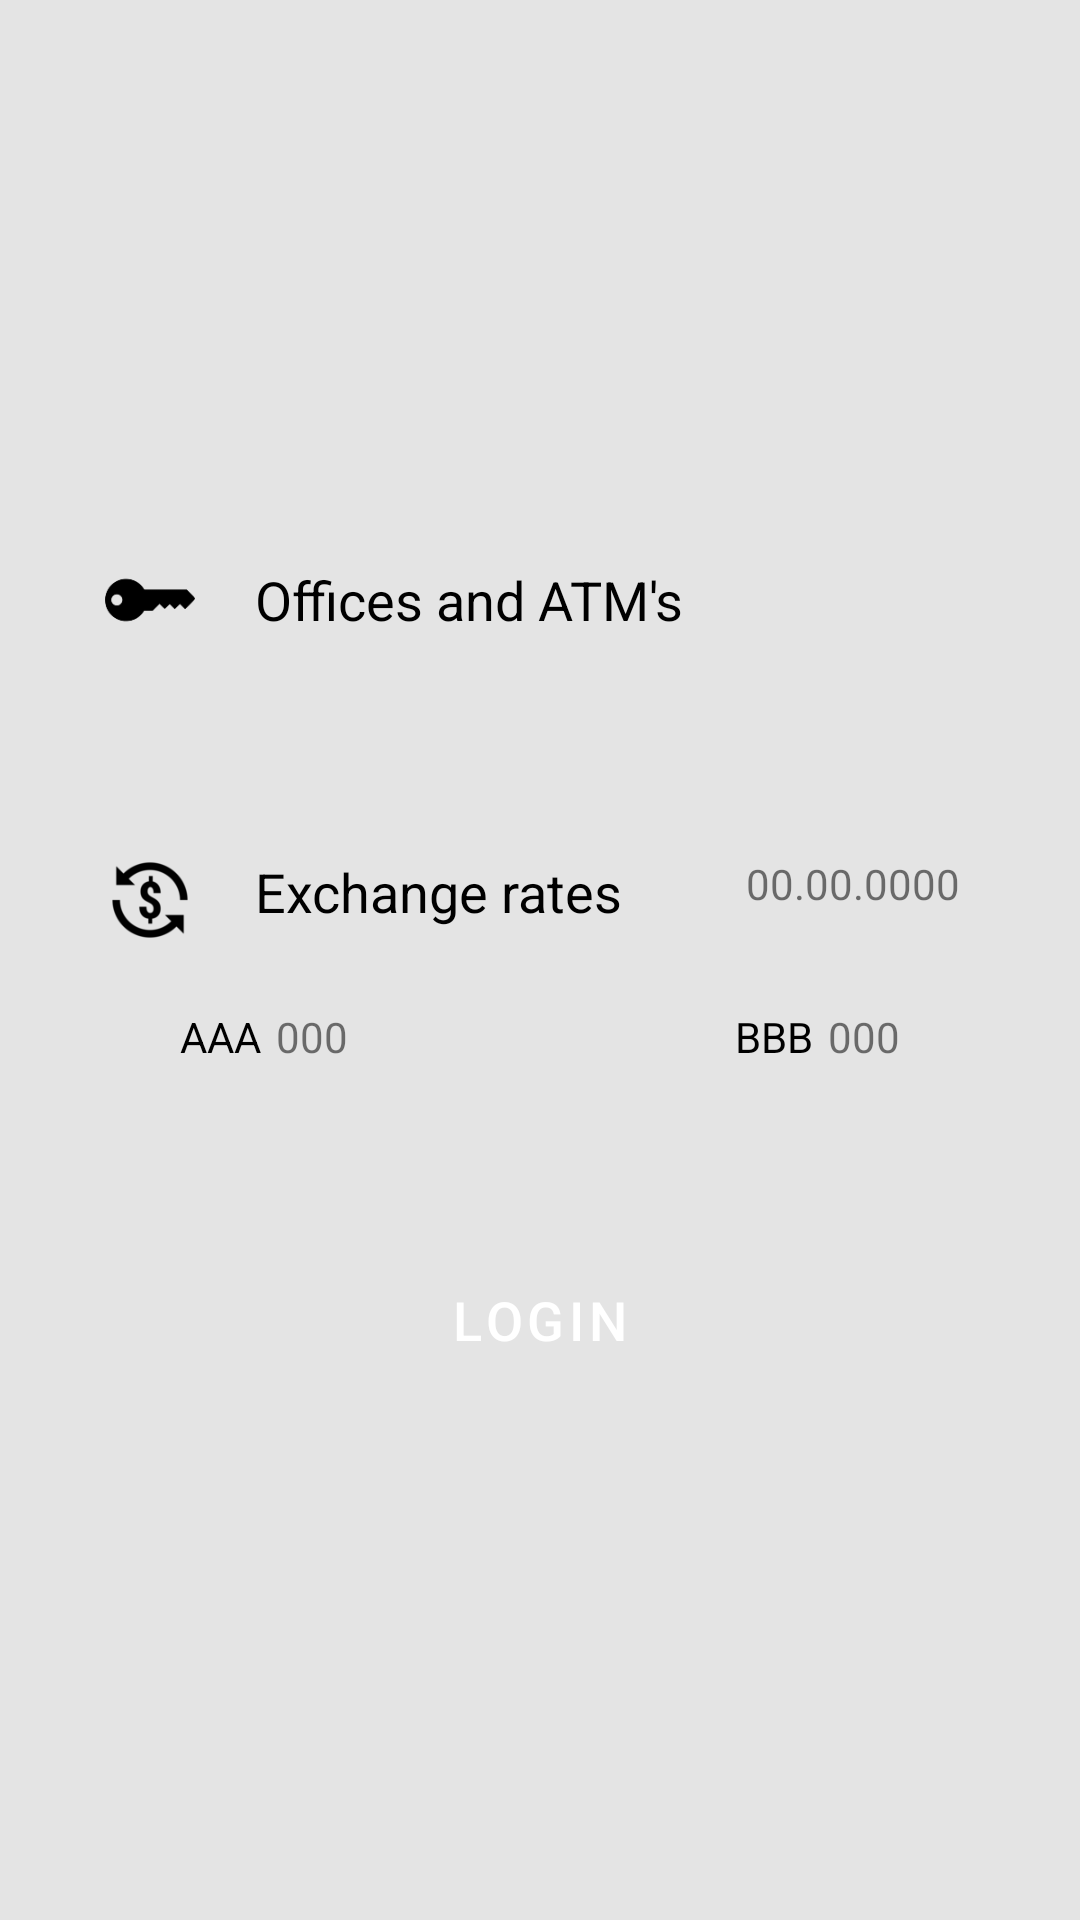

Locate icon controls on the screen. Image size 1080*1920, boxes as (x1, y1, x2, y2).
valute: (112, 862, 188, 938)
